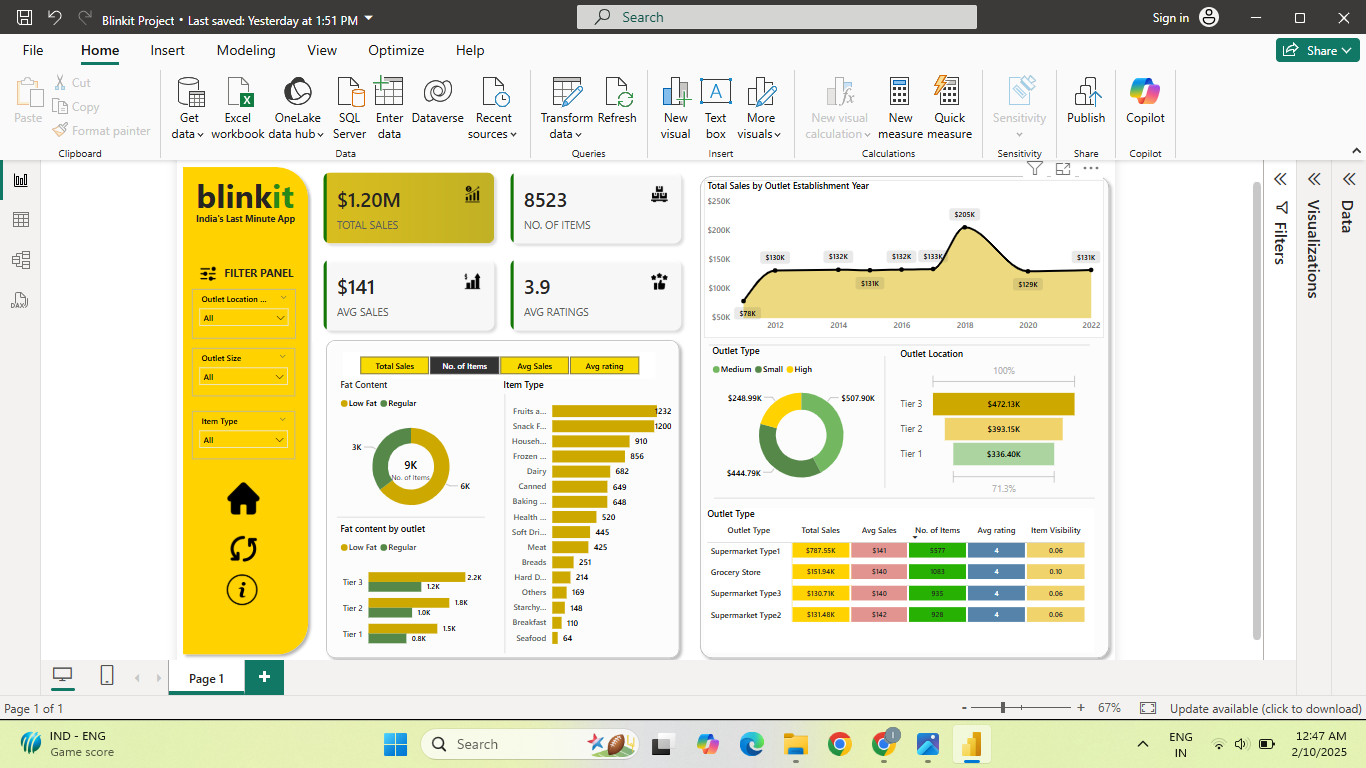

The dashboard page shown, as its layout file describes it:
{"tool":"powerbi","page":{"name":"Page 1","canvas":[1400,800],"ordinal":0},"visuals":[{"type":"shape","box":[0,24,204.8,745.6],"z":0},{"type":"textbox","box":[24,36.8,177.6,75.2],"z":1000},{"type":"textbox","box":[392,177.6,252.8,30.4],"z":2000},{"type":"textbox","box":[12.8,96,177.6,30.4],"z":3000},{"type":"cardVisual","fields":{"Data":["BlinkIT Grocery Data.Total Sales","BlinkIT Grocery Data.No. of Items","BlinkIT Grocery Data.Avg Sales","BlinkIT Grocery Data.Avg rating"]},"box":[201.6,24,569.6,270.4],"z":4000},{"type":"shape","box":[212.8,281.6,545.6,492.8],"z":5000},{"type":"donutChart","title":"Fat Content","fields":{"Y":["BlinkIT Grocery Data.No. of Items"],"Category":["BlinkIT Grocery Data.Item Fat Content"]},"box":[238.4,348.8,220.8,216],"z":6000},{"type":"slicer","fields":{"Values":["Metrics.Metrics"]},"box":[248,308.8,465.6,40],"z":7000},{"type":"cardVisual","fields":{"Data":["BlinkIT Grocery Data.No. of Items"]},"box":[291.2,440,115.2,88],"z":8000},{"type":"clusteredBarChart","title":"Fat content by outlet","fields":{"Y":["BlinkIT Grocery Data.No. of Items"],"Category":["BlinkIT Grocery Data.Outlet Location Type"],"Series":["BlinkIT Grocery Data.Item Fat Content"]},"box":[238.4,564.8,220.8,201.6],"z":9000},{"type":"shape","box":[238.4,539.2,220.8,33.6],"z":10000},{"type":"shape","box":[459.2,371.2,59.2,387.2],"z":11000},{"type":"barChart","title":"Item Type","fields":{"Y":["BlinkIT Grocery Data.No. of Items"],"Category":["BlinkIT Grocery Data.Item Type"]},"box":[481.6,348.8,260.8,409.6],"z":12000},{"type":"shape","box":[771.2,36.8,628.8,737.6],"z":13000},{"type":"lineChart","fields":{"Y":["BlinkIT Grocery Data.Total Sales"],"Category":["BlinkIT Grocery Data.Outlet Establishment Year"]},"box":[787.2,52.8,596.8,235.2],"z":14000},{"type":"shape","box":[793.6,288,568,20.8],"z":15000},{"type":"shape","box":[1027.2,315.2,59.2,196.8],"z":16000},{"type":"funnel","title":"Outlet Location ","fields":{"Y":["BlinkIT Grocery Data.Total Sales"],"Category":["BlinkIT Grocery Data.Outlet Location Type"]},"box":[1075.2,302.4,275,225],"z":17000},{"type":"shape","box":[801.6,512,568,30.4],"z":18000},{"type":"slicer","title":"Outlet Location Type","fields":{"Values":["BlinkIT Grocery Data.Outlet Location Type"]},"box":[22.4,214.4,155.2,73.6],"z":19000},{"type":"slicer","title":"Outlet Location Type","fields":{"Values":["BlinkIT Grocery Data.Outlet Size"]},"box":[22.4,302.4,153.6,72],"z":20000},{"type":"donutChart","title":"Outlet Type","fields":{"Y":["BlinkIT Grocery Data.Total Sales"],"Category":["BlinkIT Grocery Data.Outlet Size"]},"box":[793.6,299.2,275.2,224],"z":21000},{"type":"pivotTable","title":"Outlet Type","fields":{"Rows":["BlinkIT Grocery Data.Outlet Type"],"Values":["BlinkIT Grocery Data.Total Sales","BlinkIT Grocery Data.Avg Sales","BlinkIT Grocery Data.No. of Items","BlinkIT Grocery Data.Avg rating","BlinkIT Grocery Data.Item Visibility"]},"box":[787.2,542.4,582.4,216],"z":22000},{"type":"slicer","title":"Outlet Location Type","fields":{"Values":["BlinkIT Grocery Data.Item Type"]},"box":[22.4,396.8,153.6,72],"z":23000},{"type":"image","box":[67.2,499.2,64,57.6],"z":24000},{"type":"image","box":[67.2,572.8,64,59.2],"z":25000},{"type":"image","box":[67.2,635.2,60.8,56],"z":26000},{"type":"image","box":[24,174.4,44.8,35.2],"z":27000},{"type":"textbox","box":[65.6,174.4,123.2,36.8],"z":27001}]}

Visuals, with their boxes on the page's 1400x800 design canvas (x1, y1, x2, y2). These are canvas units, not pixel positions in the 1366x768 screenshot, which may show the page scaled, cropped or inside an application window:
shape: (left=0, top=24, right=205, bottom=770)
textbox: (left=24, top=37, right=202, bottom=112)
textbox: (left=392, top=178, right=645, bottom=208)
textbox: (left=13, top=96, right=190, bottom=126)
cardVisual - BlinkIT Grocery Data.Total Sales x BlinkIT Grocery Data.No. of Items: (left=202, top=24, right=771, bottom=294)
shape: (left=213, top=282, right=758, bottom=774)
"Fat Content" donutChart: (left=238, top=349, right=459, bottom=565)
slicer - Metrics.Metrics: (left=248, top=309, right=714, bottom=349)
cardVisual - BlinkIT Grocery Data.No. of Items: (left=291, top=440, right=406, bottom=528)
"Fat content by outlet" clusteredBarChart: (left=238, top=565, right=459, bottom=766)
shape: (left=238, top=539, right=459, bottom=573)
shape: (left=459, top=371, right=518, bottom=758)
"Item Type" barChart: (left=482, top=349, right=742, bottom=758)
shape: (left=771, top=37, right=1400, bottom=774)
lineChart - BlinkIT Grocery Data.Total Sales x BlinkIT Grocery Data.Outlet Establishment Year: (left=787, top=53, right=1384, bottom=288)
shape: (left=794, top=288, right=1362, bottom=309)
shape: (left=1027, top=315, right=1086, bottom=512)
"Outlet Location " funnel: (left=1075, top=302, right=1350, bottom=527)
shape: (left=802, top=512, right=1370, bottom=542)
"Outlet Location Type" slicer: (left=22, top=214, right=178, bottom=288)
"Outlet Location Type" slicer: (left=22, top=302, right=176, bottom=374)
"Outlet Type" donutChart: (left=794, top=299, right=1069, bottom=523)
"Outlet Type" pivotTable: (left=787, top=542, right=1370, bottom=758)
"Outlet Location Type" slicer: (left=22, top=397, right=176, bottom=469)
image: (left=67, top=499, right=131, bottom=557)
image: (left=67, top=573, right=131, bottom=632)
image: (left=67, top=635, right=128, bottom=691)
image: (left=24, top=174, right=69, bottom=210)
textbox: (left=66, top=174, right=189, bottom=211)
